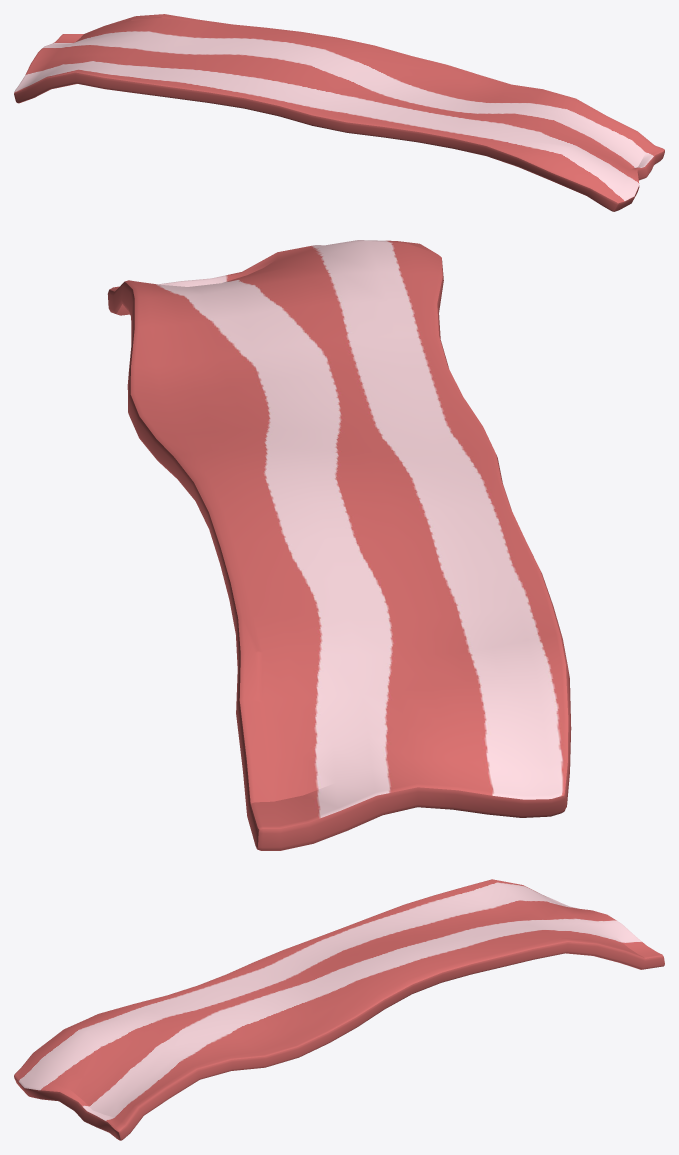
Rendered from burger_bacon.fbx.
The picture shows the model from 3 angles, top to bottom: view 1: azimuth 30°, elevation 25°; view 2: azimuth 150°, elevation 25°; view 3: azimuth 270°, elevation 25°; orthographic projection. The views are drawn at different scales.
Parts seen in each view (by area): view 1: bacon; view 2: bacon; view 3: bacon.
Boxes of the visible parts, left/top/right/bottom form: bacon: left=14, top=14, right=664, bottom=211; bacon: left=107, top=240, right=571, bottom=850; bacon: left=14, top=879, right=664, bottom=1140.
Size of the model in its own units: 209 by 29.99 by 259.
Materials: 1 (1 with a texture image).
